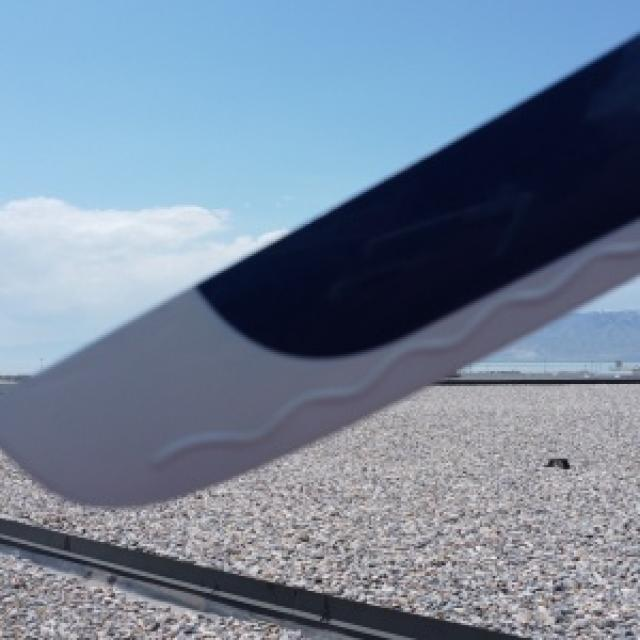healthy: (0, 36, 638, 497), (0, 0, 638, 230)
